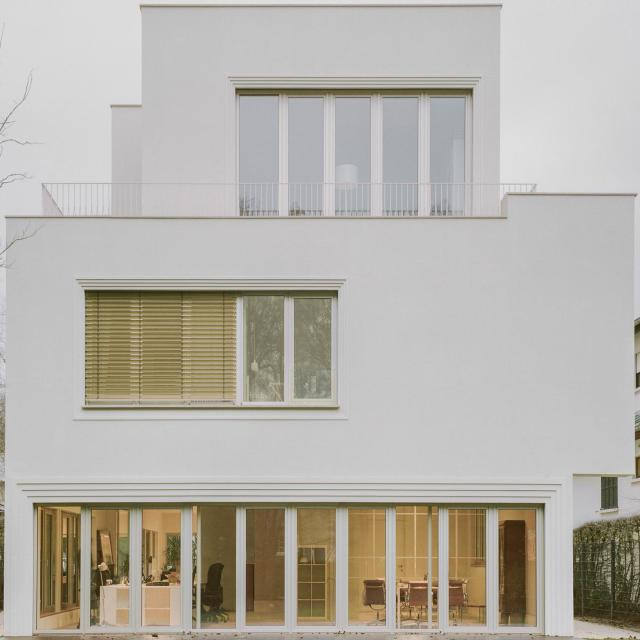door: (236, 504, 500, 635), (79, 504, 195, 637)
railing: (44, 182, 536, 215)
window: (35, 501, 546, 635), (85, 291, 335, 410), (233, 87, 471, 183)
